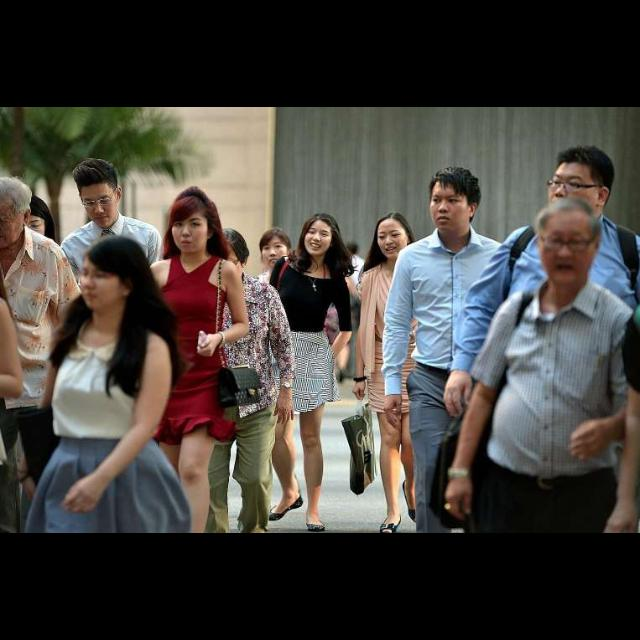head: (536, 198, 604, 286), (549, 146, 615, 227), (80, 238, 146, 314), (428, 165, 480, 232), (78, 174, 124, 230), (171, 196, 215, 254), (0, 178, 34, 252), (208, 228, 250, 282), (377, 212, 413, 262), (304, 213, 336, 257), (260, 230, 294, 270), (346, 244, 359, 256)
person: (250, 209, 358, 531), (234, 227, 320, 495), (324, 240, 382, 382)
